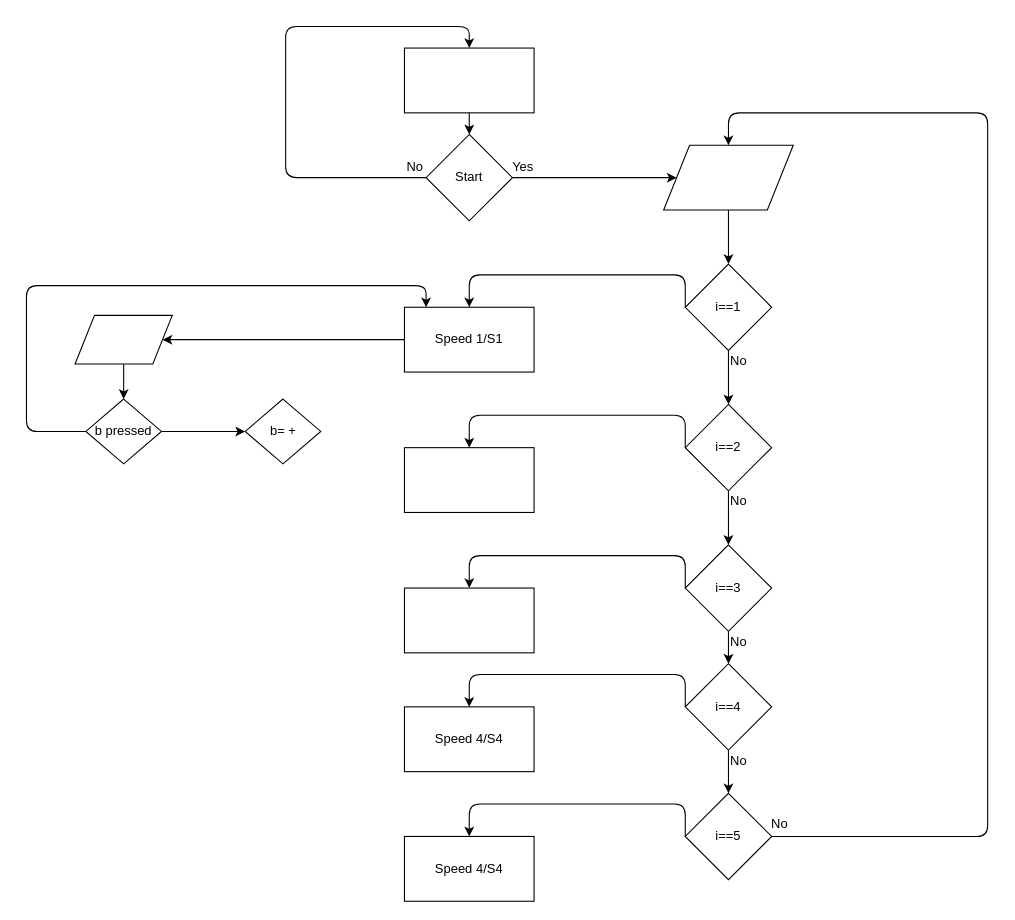
This 1015x920 diagram has some shape labels left out. The shapes that lost their labels are listed below. From the top down, each one's centre as x and y in pixels, then its label:
the point at 468,80: Sleep Mode/S0
the point at 728,177: User Input i
the point at 123,339: Button b
the point at 468,479: Speed 2/S2
the point at 468,620: Speed 3/S3
